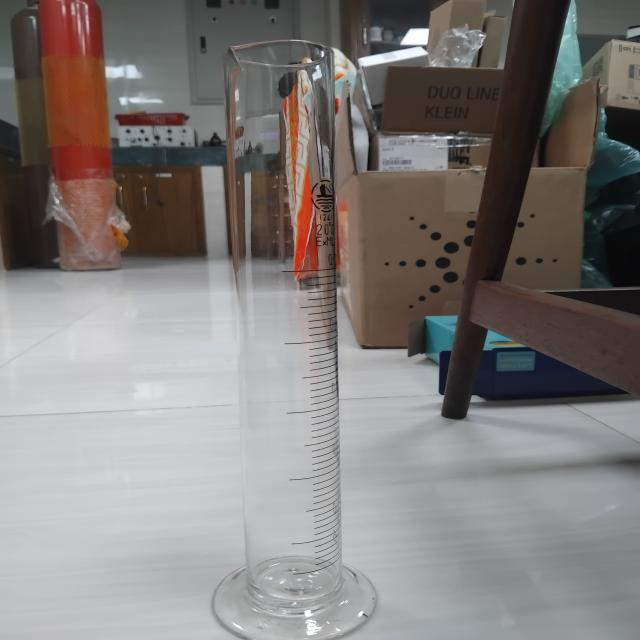Measuring_Cylinder: (173, 19, 407, 640)
